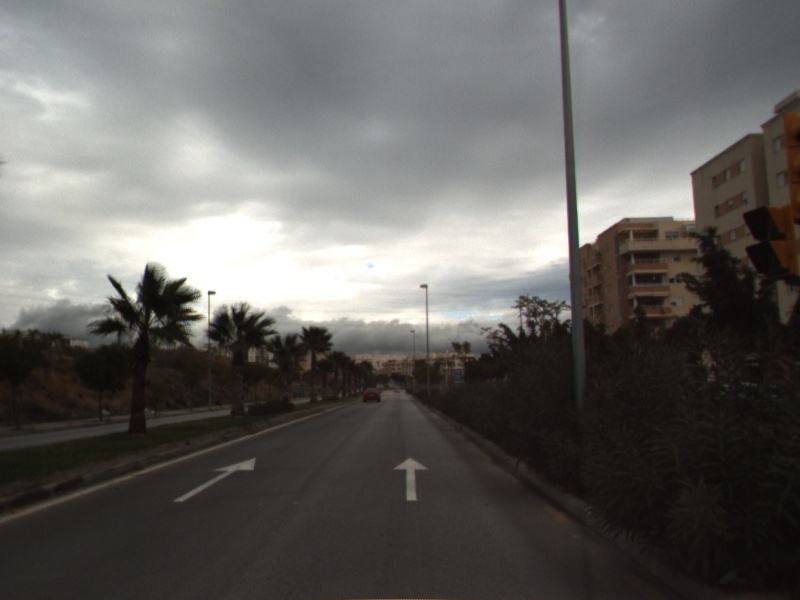STRAIGHT: (170, 456, 257, 504), (391, 455, 431, 503)
